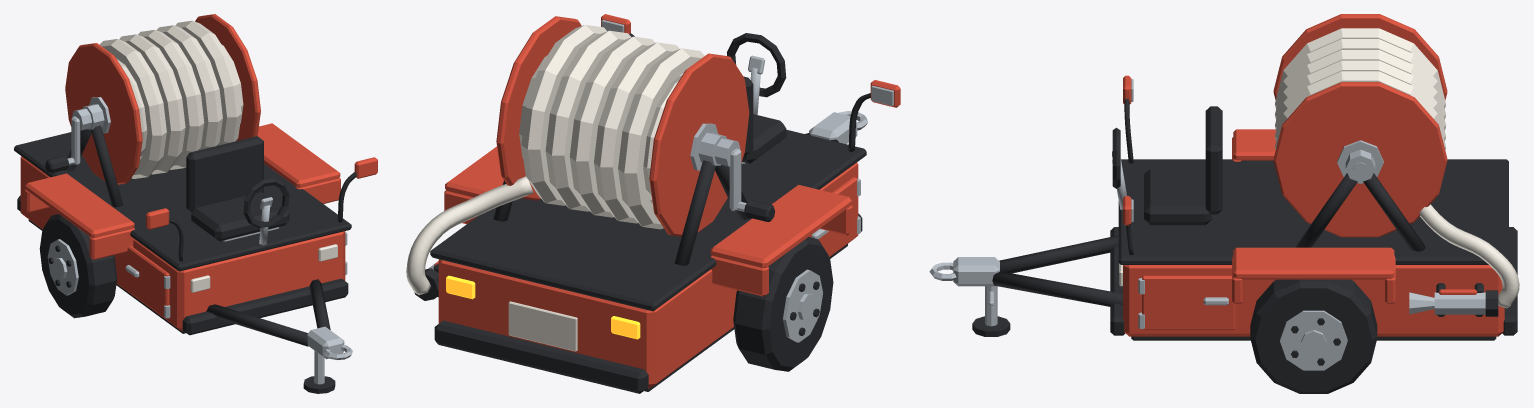
Rendered from hose-reel-trailer.glb.
The picture shows the model from 3 angles, left to right: view 1: azimuth 30°, elevation 25°; view 2: azimuth 150°, elevation 25°; view 3: azimuth 270°, elevation 25°; orthographic projection. The views are drawn at different scales.
Parts seen in each view (by area): view 1: Reel, Deck_Trim, Body, Reel_Flange_L, Seat_Back, Wheel_L, Fender_L, Fender_R, Bumper_Front, Reel_Flange_R, Seat_Cushion, Door_L (+16 smaller); view 2: Deck_Trim, Reel, Body, Reel_Flange_L, Wheel_L, Bumper_Rear, Fender_L, Reel_Flange_R, Hose_ToNozzle, Licence_Plate, Fender_R, FenderSkirt_L_B (+17 smaller); view 3: Deck_Trim, Reel_Flange_R, Body, Reel, Wheel_R, Fender_R, Door_R, Seat_Cushion, Reel_Flange_L, Wheel_R_Hub, Hose_ToNozzle, TowBar_R (+14 smaller).
Part boxes in pixels (box(x1,y1,x2,y2)): Reel: box(100, 20, 243, 178); Deck_Trim: box(14, 132, 351, 271); Body: box(20, 156, 345, 330); Reel_Flange_L: box(65, 43, 142, 184); Seat_Back: box(186, 136, 263, 212); Wheel_L: box(39, 214, 117, 318); Fender_L: box(25, 173, 134, 237); Fender_R: box(257, 123, 340, 187); Bumper_Front: box(182, 278, 348, 335); Reel_Flange_R: box(195, 14, 260, 140); Seat_Cushion: box(191, 192, 289, 241); Door_L: box(127, 245, 169, 318); Deck_Trim: box(430, 129, 866, 311); Reel: box(519, 24, 704, 229); Body: box(438, 162, 858, 388); Reel_Flange_L: box(649, 53, 749, 236); Wheel_L: box(733, 237, 833, 371); Bumper_Rear: box(434, 320, 648, 393); Fender_L: box(710, 184, 851, 267); Reel_Flange_R: box(496, 16, 581, 200); Hose_ToNozzle: box(406, 176, 533, 294); Licence_Plate: box(508, 301, 577, 351); Fender_R: box(445, 146, 503, 197); FenderSkirt_L_B: box(710, 255, 768, 296); Deck_Trim: box(1118, 159, 1508, 264); Reel_Flange_R: box(1273, 82, 1447, 237); Body: box(1123, 265, 1504, 336); Reel: box(1275, 28, 1446, 149); Wheel_R: box(1250, 279, 1377, 393); Fender_R: box(1233, 247, 1394, 279); Door_R: box(1142, 275, 1235, 330); Seat_Cushion: box(1144, 168, 1211, 225); Reel_Flange_L: box(1273, 14, 1447, 99); Wheel_R_Hub: box(1280, 310, 1347, 370); Hose_ToNozzle: box(1419, 204, 1519, 308); TowBar_R: box(992, 271, 1122, 306).
Size of the model in its own units: 8 by 7.3 by 13.91.
